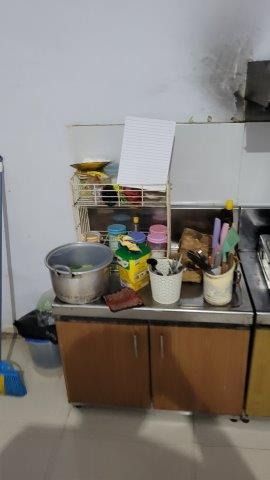kertas: (113, 116, 175, 196)
